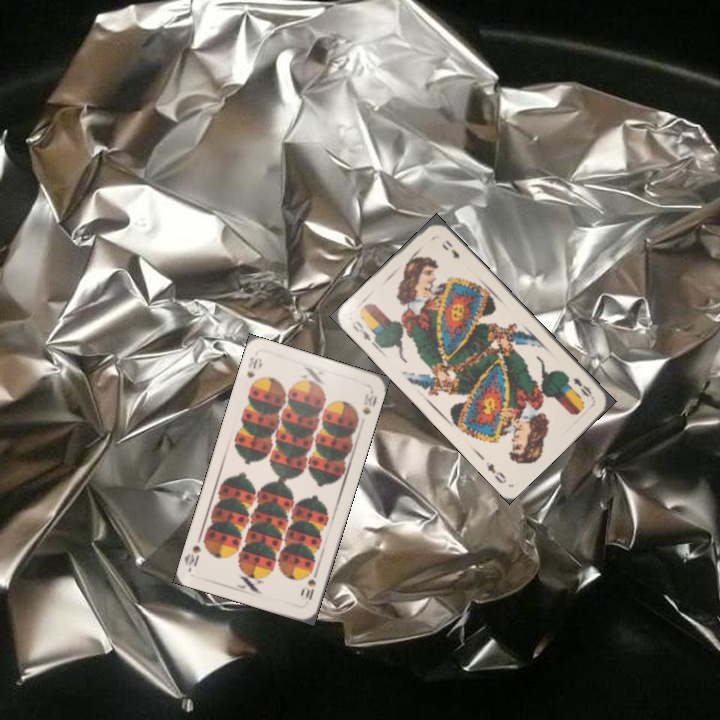EO: (347, 317, 380, 349), (569, 374, 596, 401)
S10: (243, 353, 264, 392), (298, 567, 320, 603)
